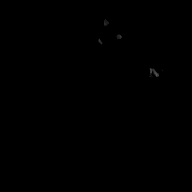v: (96, 16, 122, 44)
